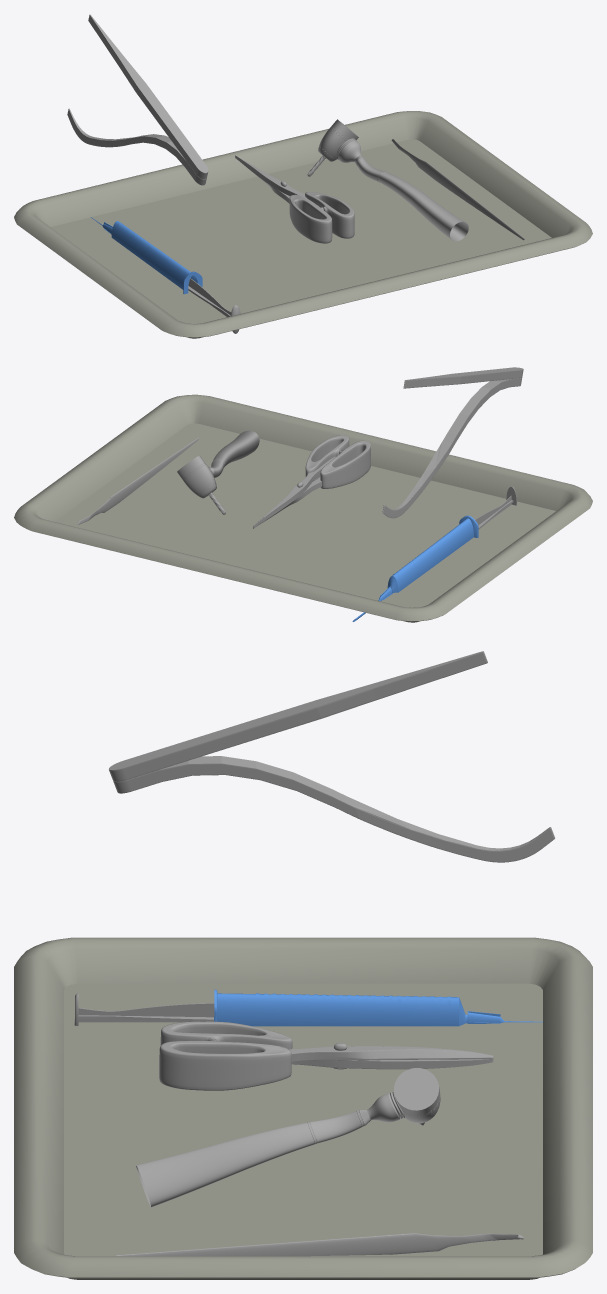
Rendered from trayAndTools.fbx.
The picture shows the model from 3 angles, top to bottom: view 1: azimuth 30°, elevation 25°; view 2: azimuth 150°, elevation 25°; view 3: azimuth 270°, elevation 25°; orthographic projection. The views are drawn at different scales.
Visible parts, largest first — view 1: Tray, obj1, uploads_files_235039_dental+drill, scissor, syringe, DentalSickleProbe3; view 2: Tray, obj1, scissor, syringe, uploads_files_235039_dental+drill, DentalSickleProbe3; view 3: Tray, obj1, scissor, syringe, uploads_files_235039_dental+drill, DentalSickleProbe3.
Boxes of the visible parts, x1,y1,x2,y2 form: Tray: (14,111,592,338); obj1: (67,14,208,185); uploads_files_235039_dental+drill: (307,119,468,241); scissor: (235,155,354,243); syringe: (91,217,240,333); DentalSickleProbe3: (391,139,524,240); Tray: (14,394,592,622); obj1: (382,367,523,518); scissor: (253,435,370,528); syringe: (352,486,516,621); uploads_files_235039_dental+drill: (177,430,259,514); DentalSickleProbe3: (77,437,198,524); Tray: (14,937,592,1279); obj1: (109,651,554,862); scissor: (159,1021,493,1090); syringe: (74,989,542,1026); uploads_files_235039_dental+drill: (136,1068,440,1207); DentalSickleProbe3: (116,1233,524,1256).
Bounding box in the file's own units: 1956 × 1034 × 1427.
